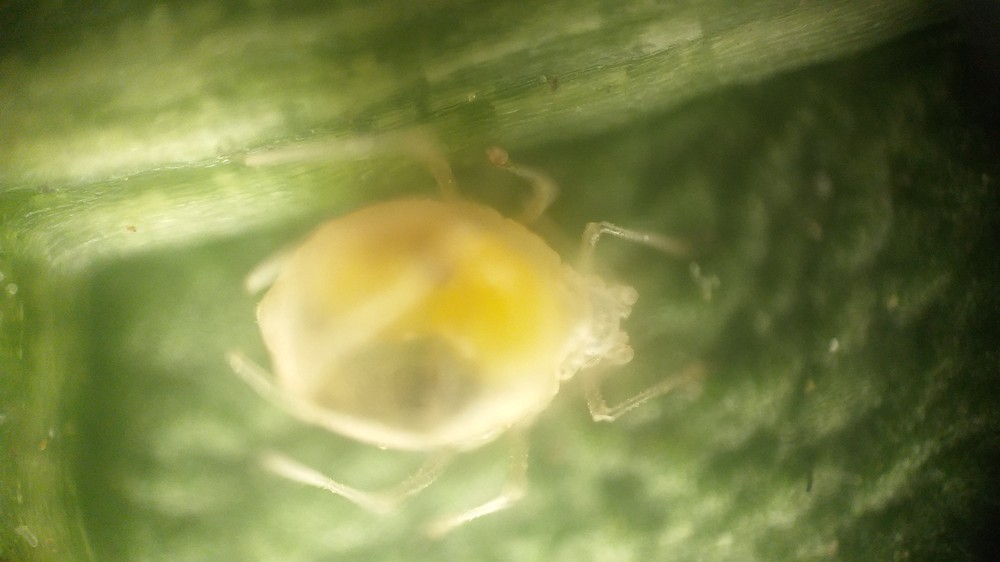Pulgon: (205, 108, 744, 537)
